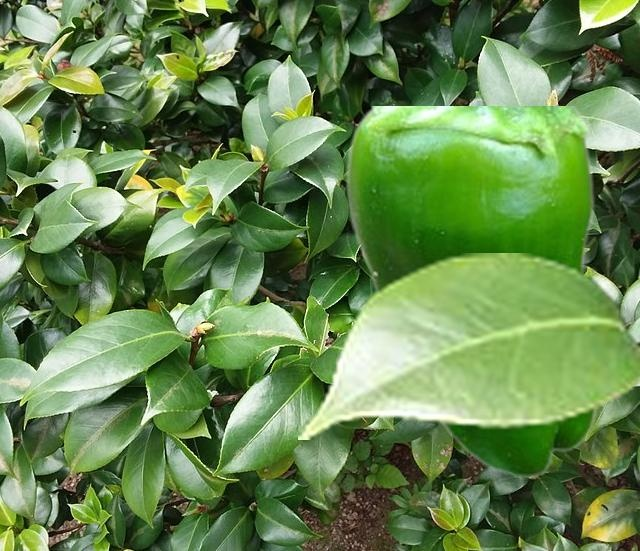green_chili: (344, 106, 598, 478)
